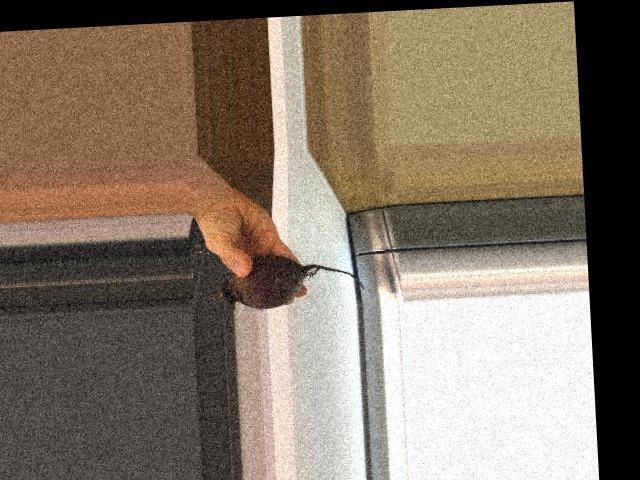beet: (213, 250, 364, 312)
